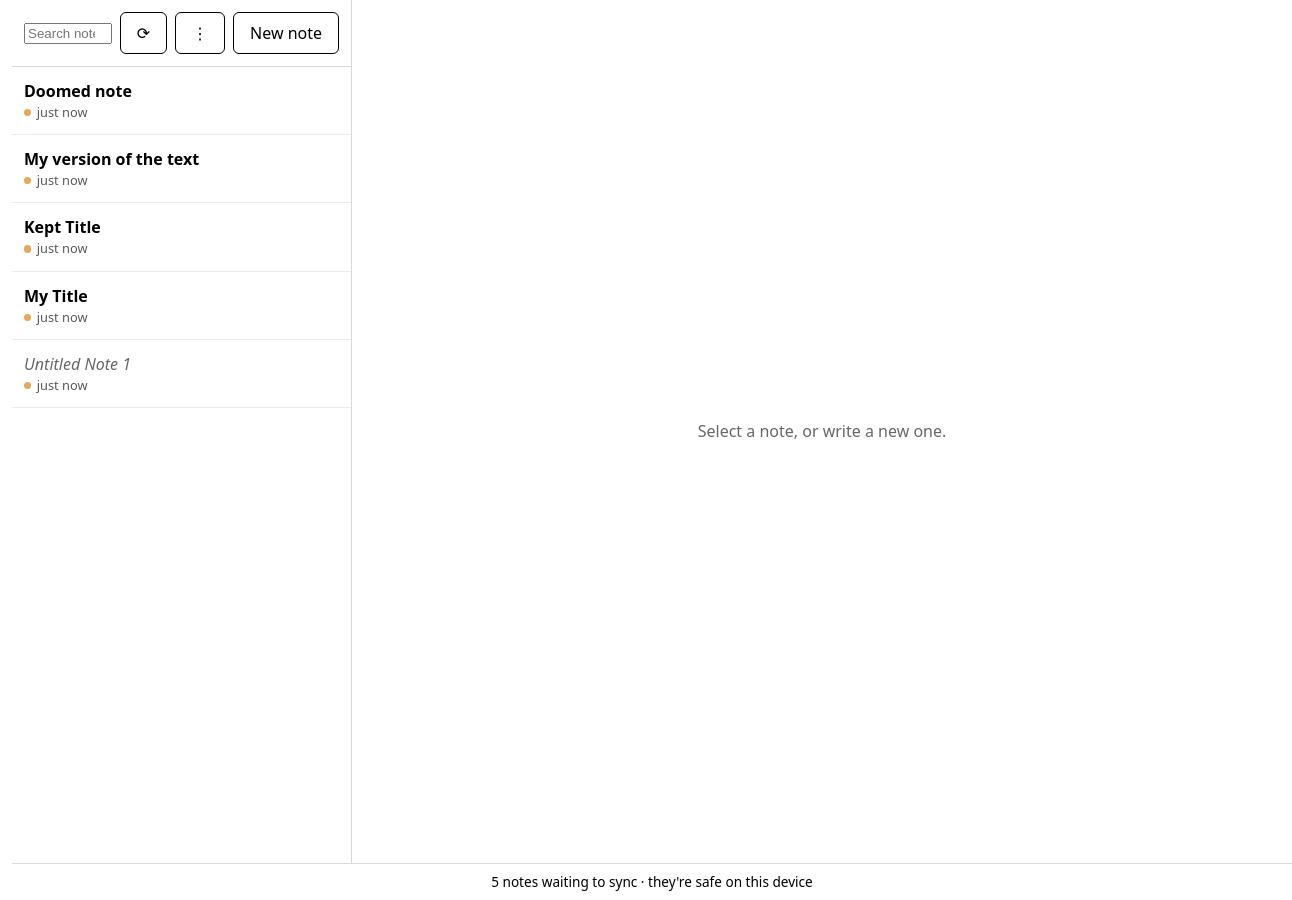
Scenario: AppShell › search filters the list and shows the no-results empty state
The image size is (1292, 900).
Click the button "New note" at (286, 33), box [233,12,339,54]
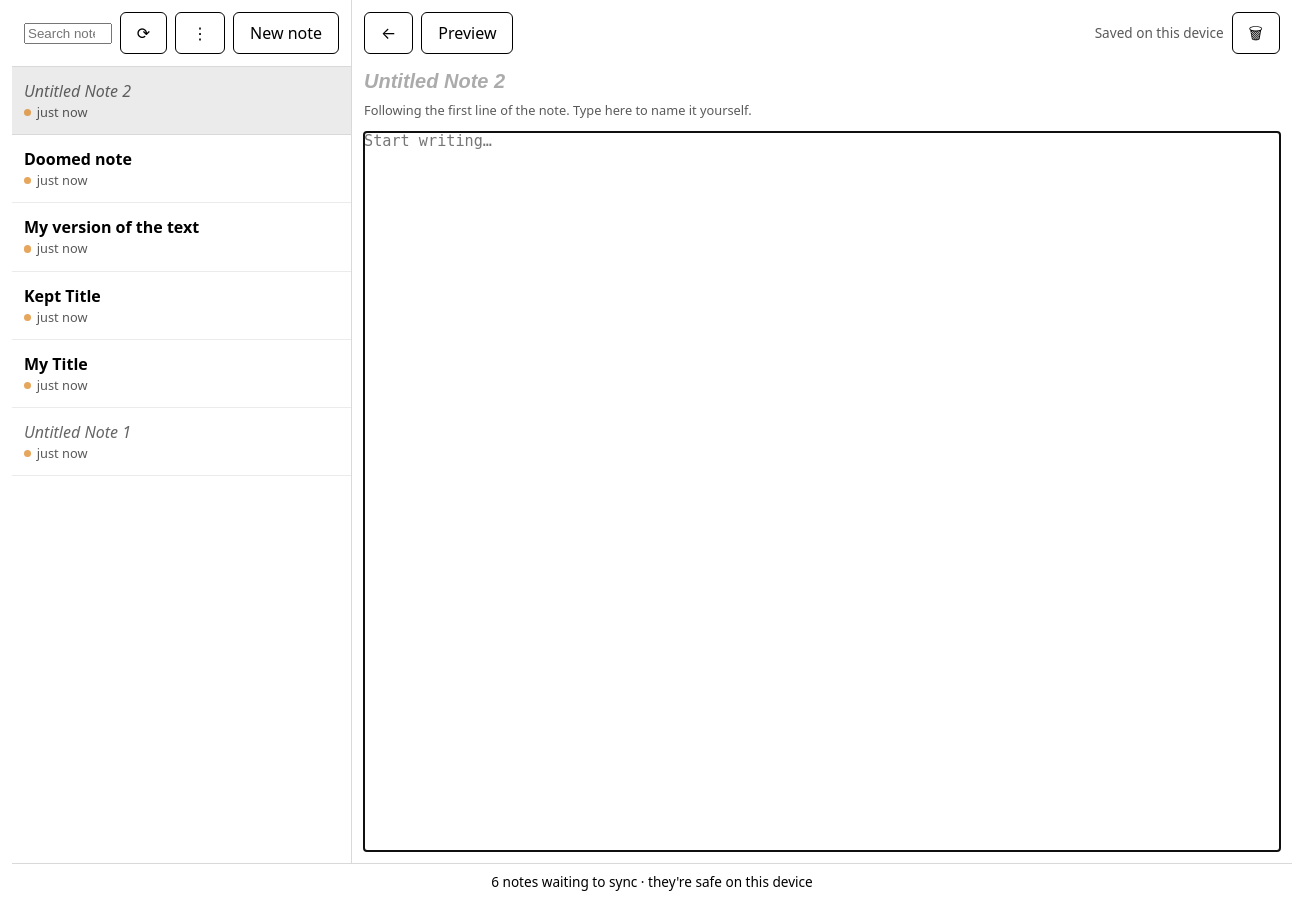
Now the text box named "Note body" is shown
Type "Findable content" into the text box named "Note body" at (822, 491), box [364,132,1280,851]
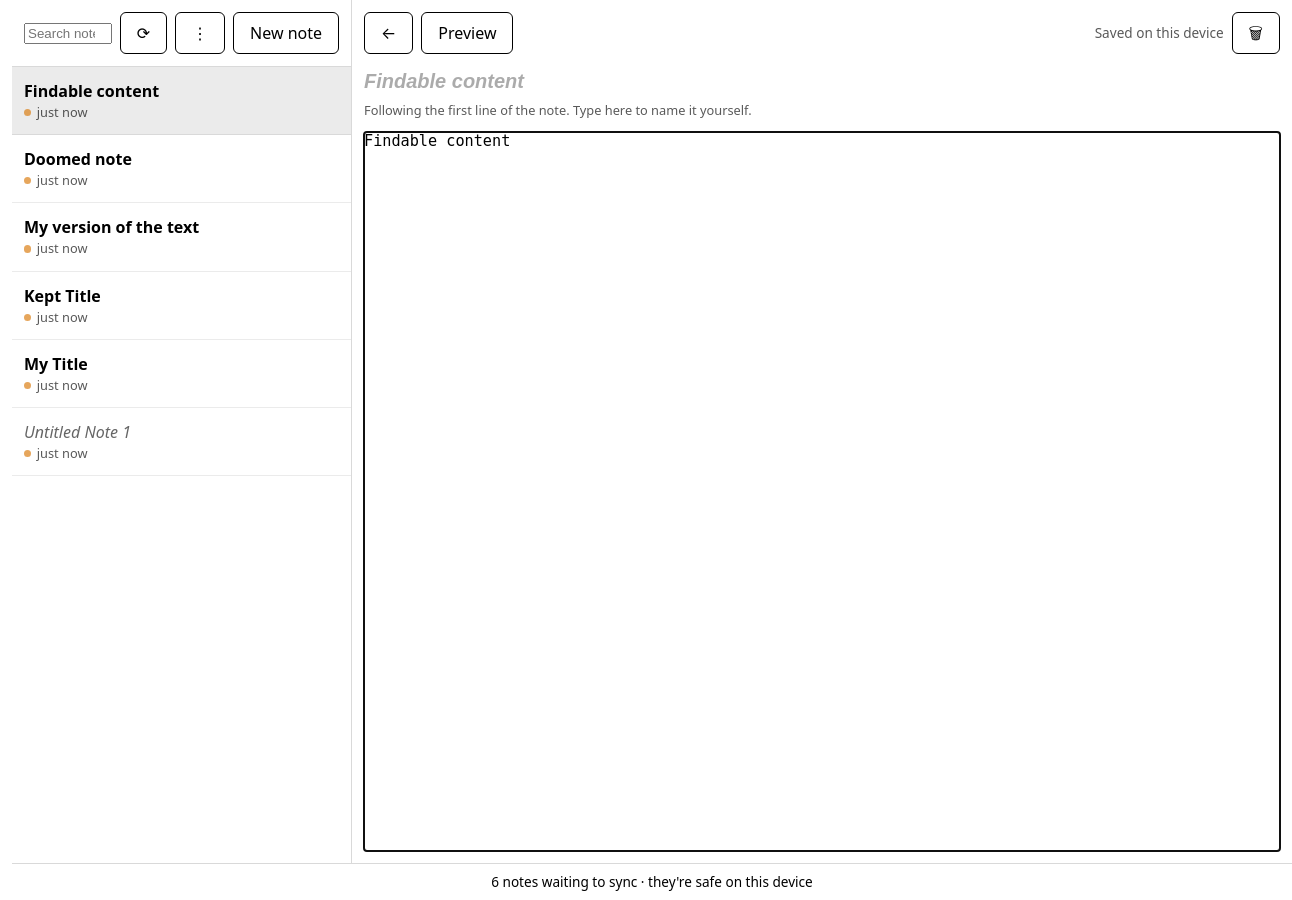
Now the button "Findable content just now" is shown, box [12,67,351,135]
Type "zzz-nomatch" into the search field labelled "Search notes" at (68, 33), box [24,22,112,44]
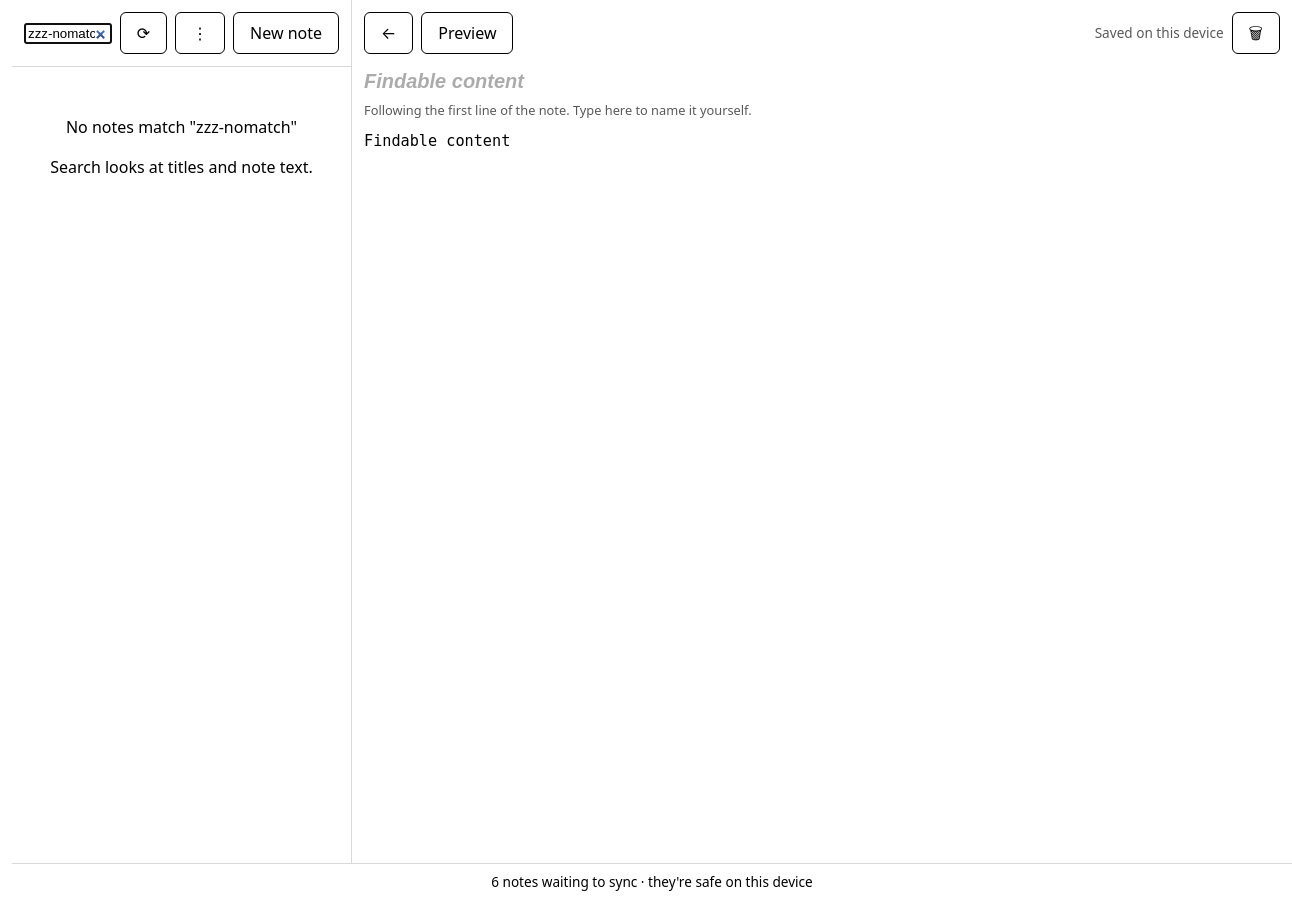
Now the text "No notes match \"zzz-nomatch\"" is shown, box [66,116,297,138]
